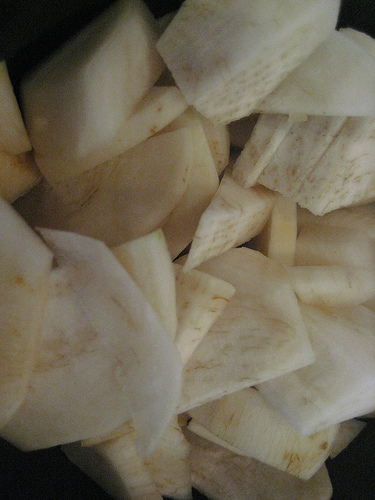turnip: (1, 1, 373, 498)
